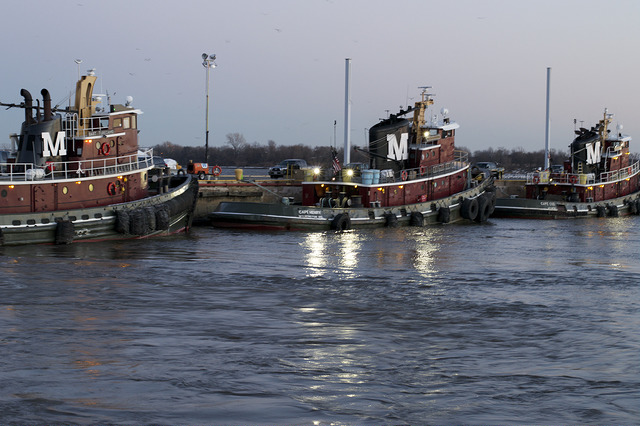tug_boat: (218, 90, 497, 225), (2, 74, 201, 244), (495, 71, 634, 217)
